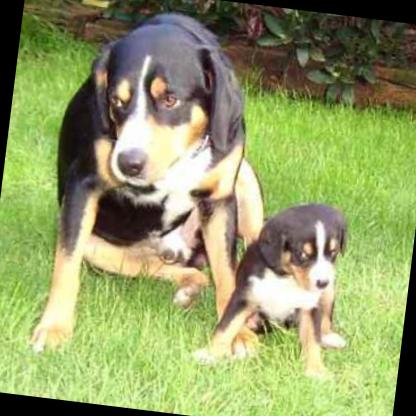EntleBucher: (26, 0, 285, 378), (188, 187, 362, 380)
